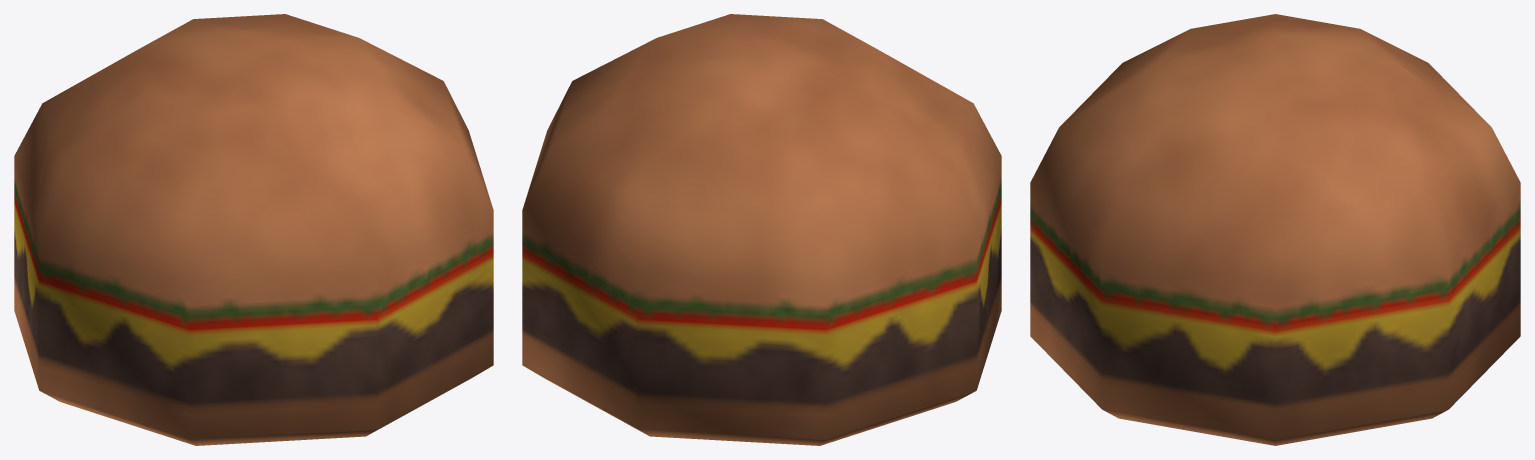
The model's file is mutant_raider_prime_cured_meat_sandwich.glb.
3 renders of one model, left to right at view 1: azimuth 30°, elevation 25°; view 2: azimuth 150°, elevation 25°; view 3: azimuth 270°, elevation 25°, orthographic.
Parts seen in each view (by area): view 1: Burger; view 2: Burger; view 3: Burger.
Boxes of the visible parts, bbox=[...] form: Burger: bbox=[14, 14, 493, 445]; Burger: bbox=[522, 14, 1001, 445]; Burger: bbox=[1030, 14, 1520, 445].
Size of the model in its own units: 0.1166 by 0.0808 by 0.1166.
1 material, 1 textured.
